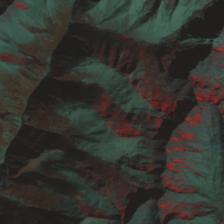landslides: (0, 192, 32, 210), (13, 0, 29, 14), (7, 5, 21, 18), (164, 0, 176, 13), (115, 1, 127, 11), (20, 0, 32, 9)
